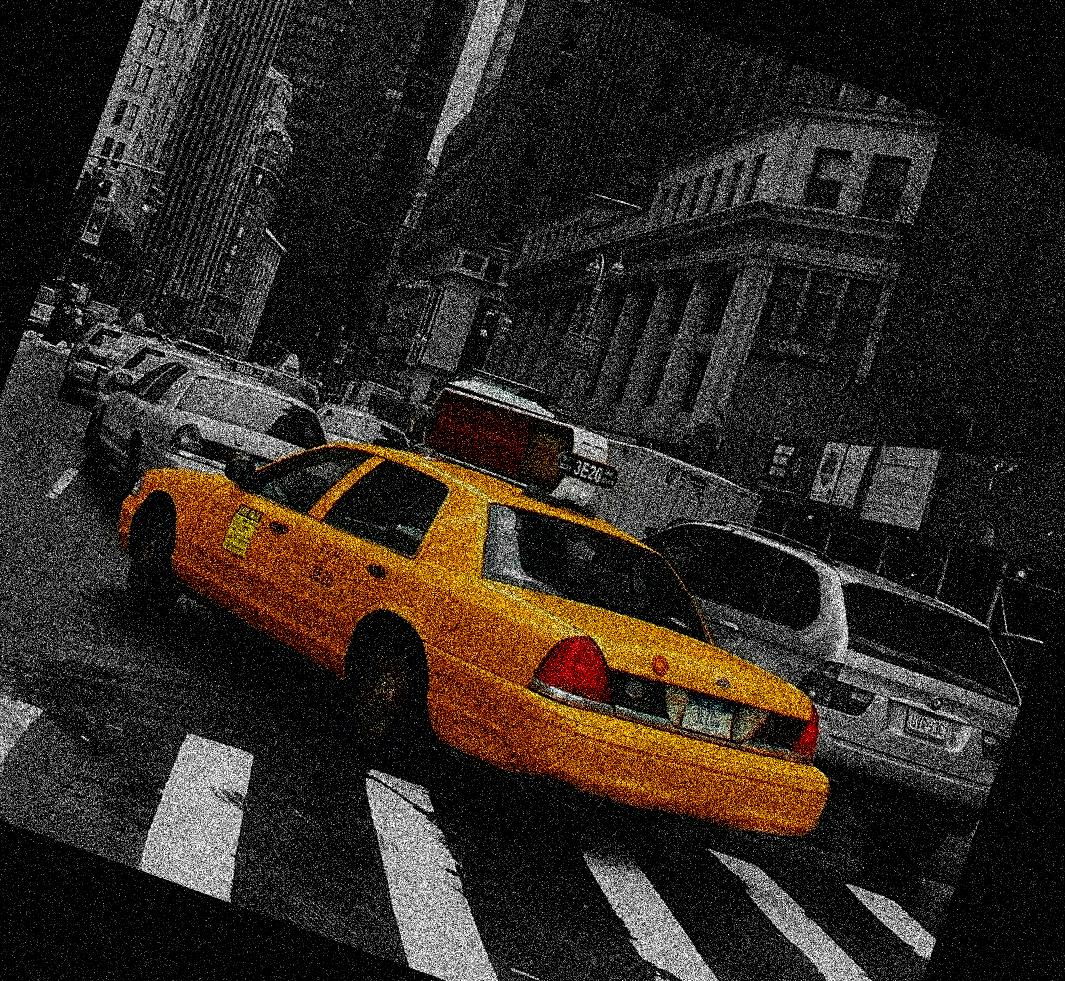taxi: (98, 405, 827, 862)
